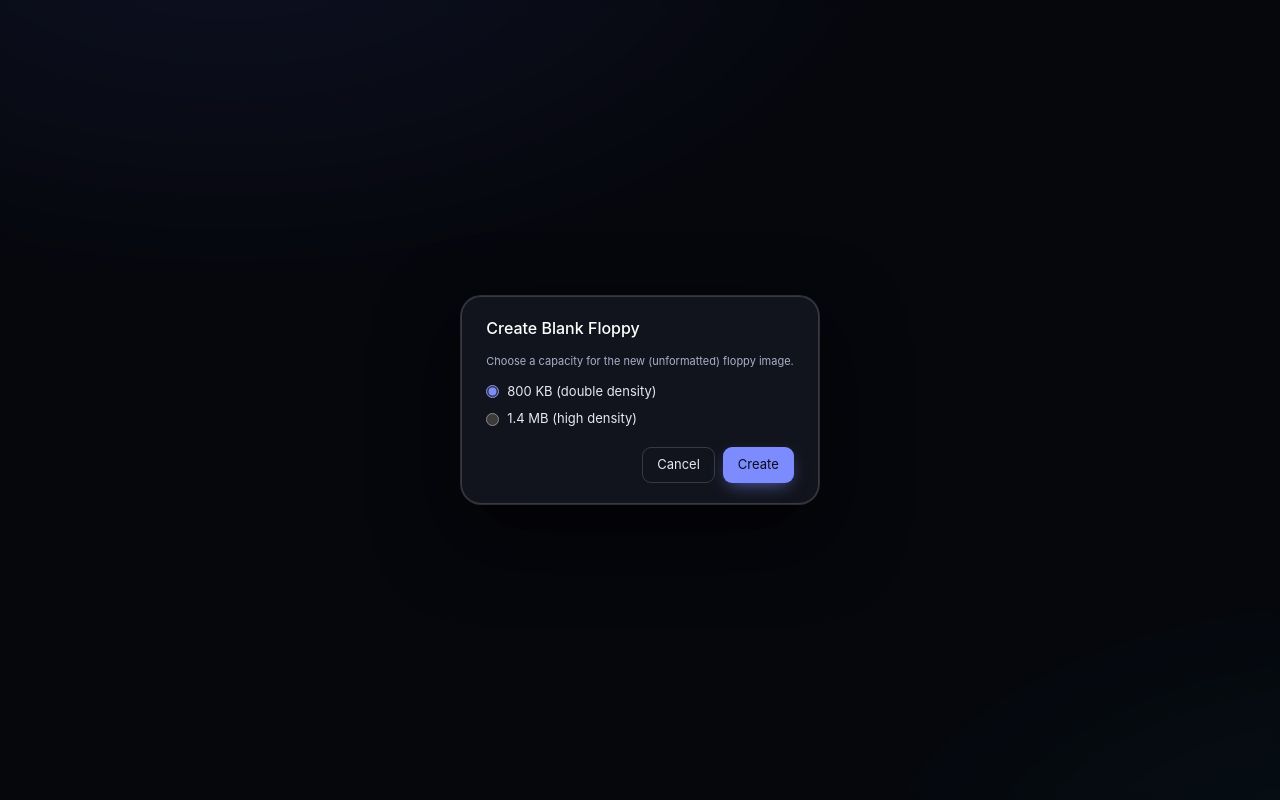
Test: CreateImageDialog › shows the core's reason for a failed create
The width and height of the screenshot is (1280, 800).
Click the button "Create": (758, 465) [723,447,794,483]
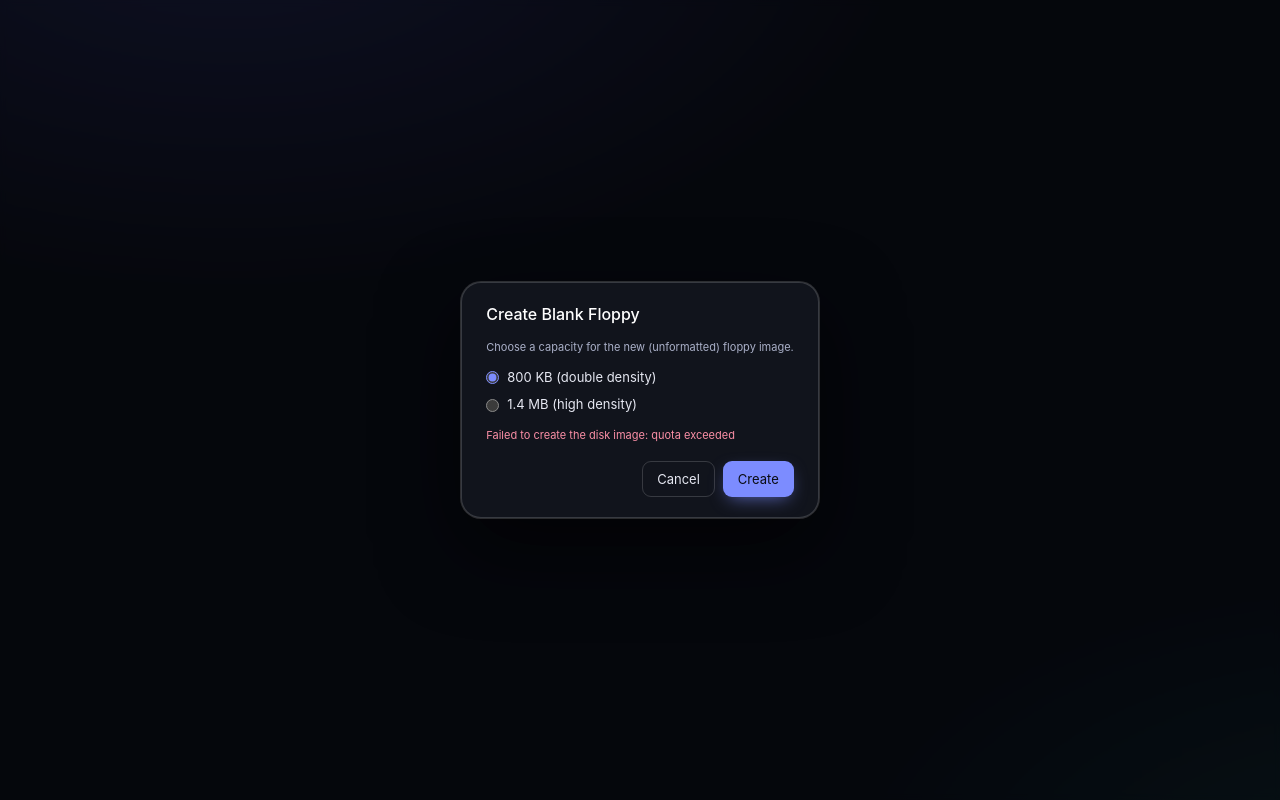
expect the text "quota exceeded" is shown: met, box [486,428,735,442]
